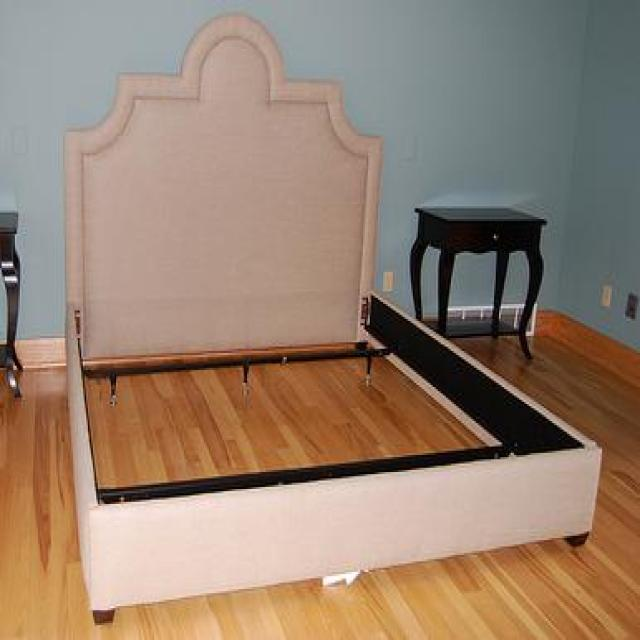bed: (61, 11, 602, 623)
table: (408, 204, 547, 359)
